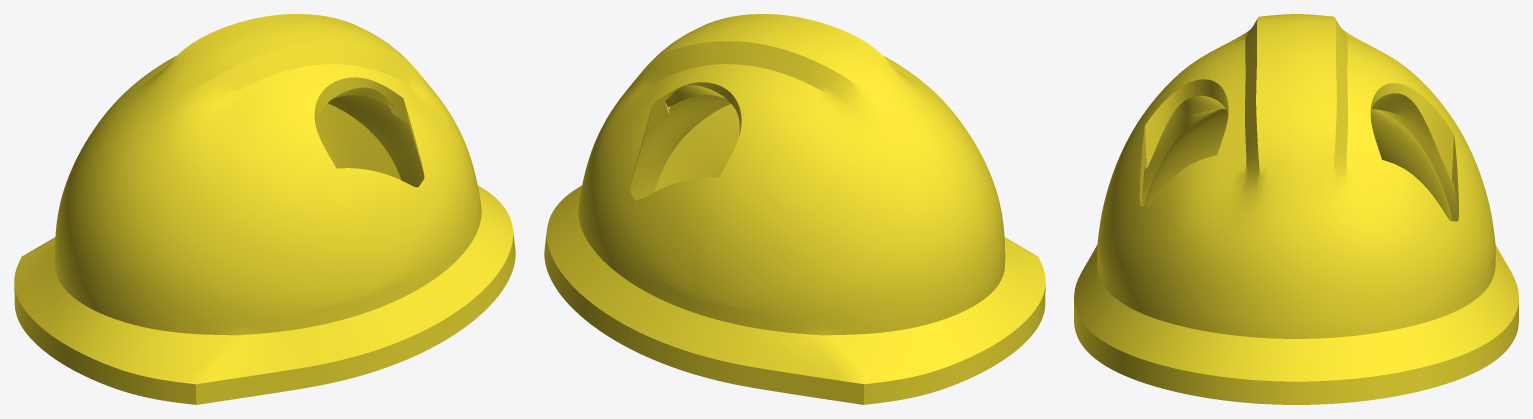
File: Horse Hard Hat.glb
3 renders of one model, left to right at view 1: azimuth 30°, elevation 25°; view 2: azimuth 150°, elevation 25°; view 3: azimuth 270°, elevation 25°, orthographic. The views are drawn at different scales.
Parts seen in each view (by area): view 1: Horse Hard Hat; view 2: Horse Hard Hat; view 3: Horse Hard Hat.
Boxes of the visible parts, <box> form: Horse Hard Hat: <box>14,14,515,404</box>; Horse Hard Hat: <box>544,14,1045,404</box>; Horse Hard Hat: <box>1074,14,1518,404</box>.
Size of the model in its own units: 0.0278 by 0.0164 by 0.0227.
